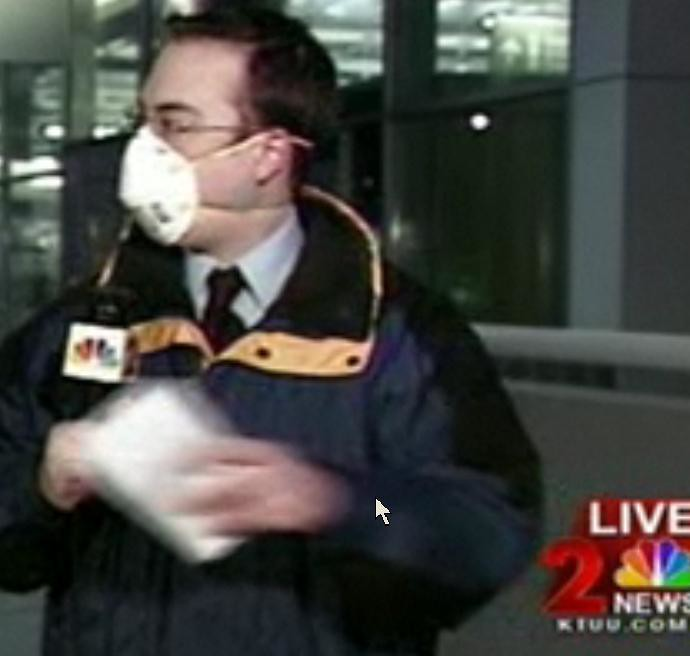n95: (107, 124, 202, 252)
